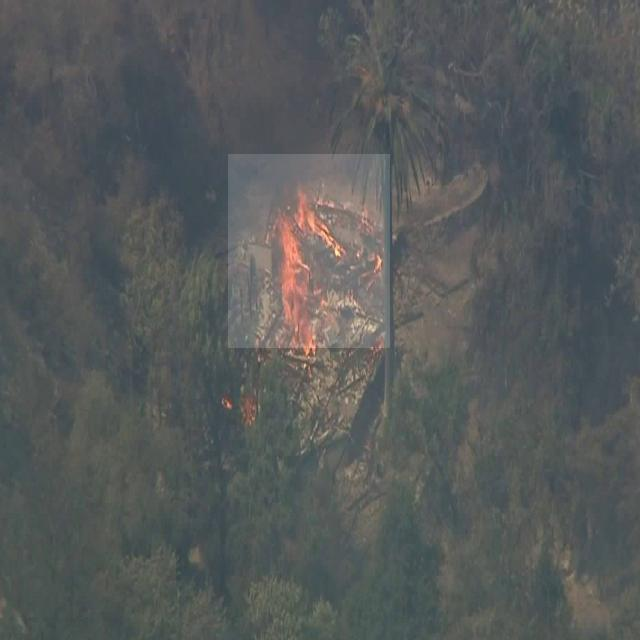Fire: (228, 154, 390, 348)
